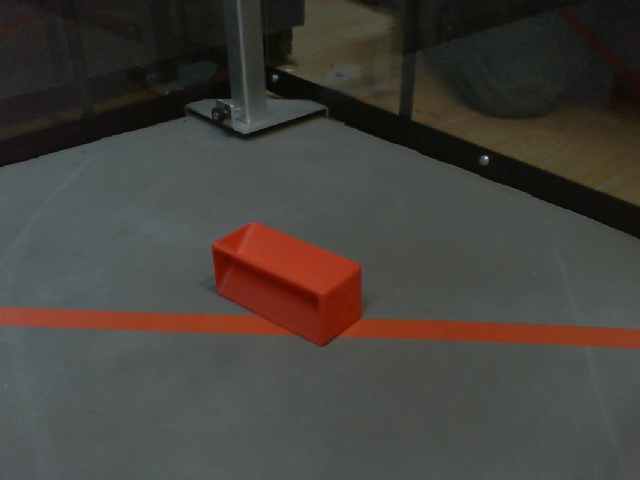RedSample: (207, 219, 368, 349)
